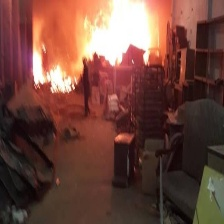fire: (84, 1, 159, 65), (32, 48, 76, 95)
smoke: (33, 2, 84, 42)
